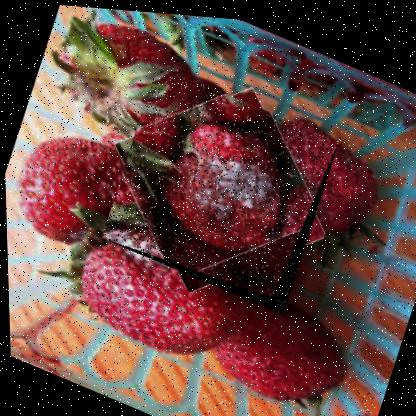strawberry_rotten: (96, 58, 343, 314)
